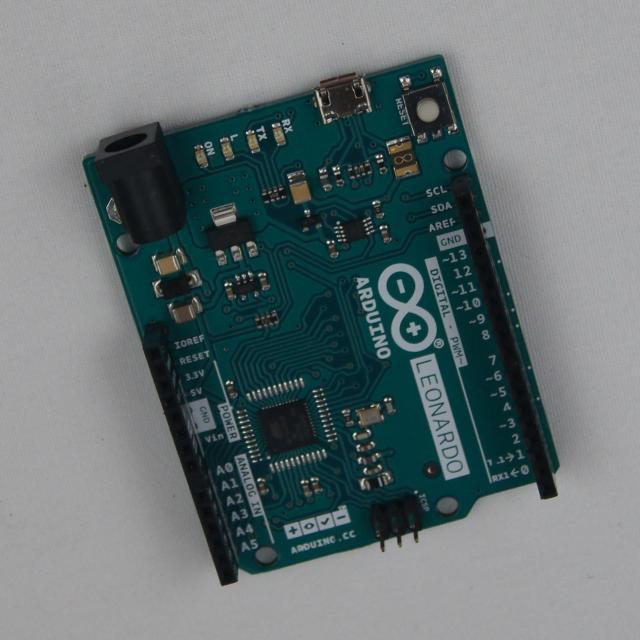Arduino-leonardo: (84, 56, 559, 585)
